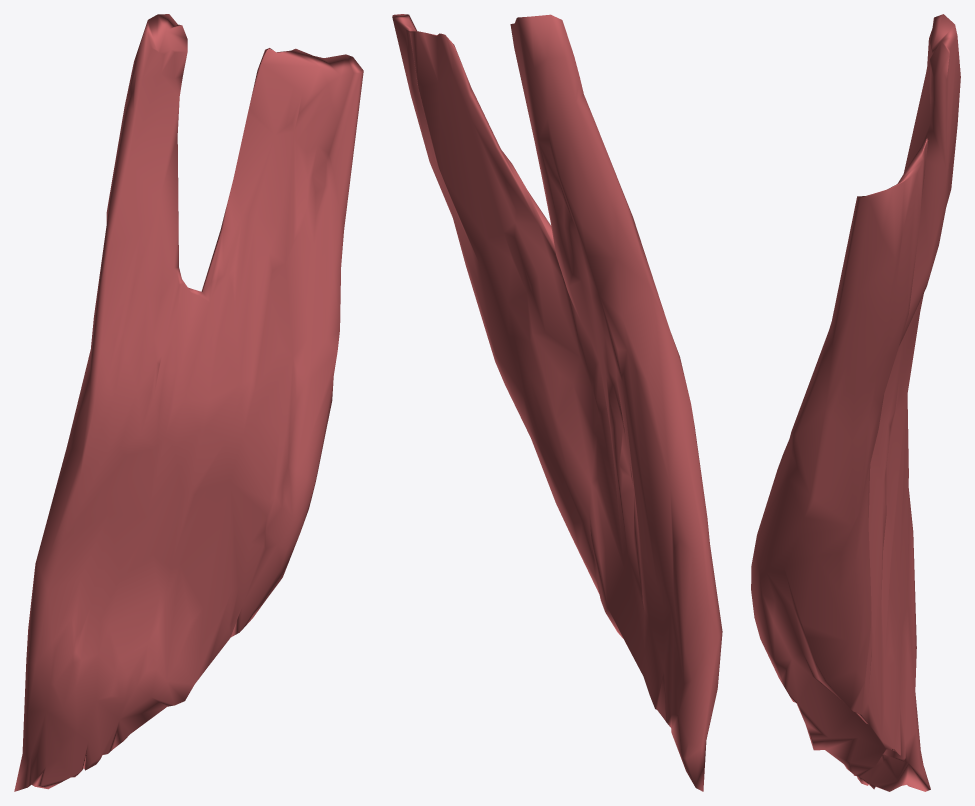
3 views of the same model, side by side, from view 1: azimuth 30°, elevation 25°; view 2: azimuth 150°, elevation 25°; view 3: azimuth 270°, elevation 25° (orthographic). The views are drawn at different scales.
Visible parts, largest first — view 1: 右侧足底方肌; view 2: 右侧足底方肌; view 3: 右侧足底方肌.
Boxes of the visible parts, x1,y1,x2,y2 form: 右侧足底方肌: (14,14,363,791); 右侧足底方肌: (392,14,722,791); 右侧足底方肌: (751,14,960,791).
Size of the model in its own units: 0.0525 by 0.1132 by 0.0251.
